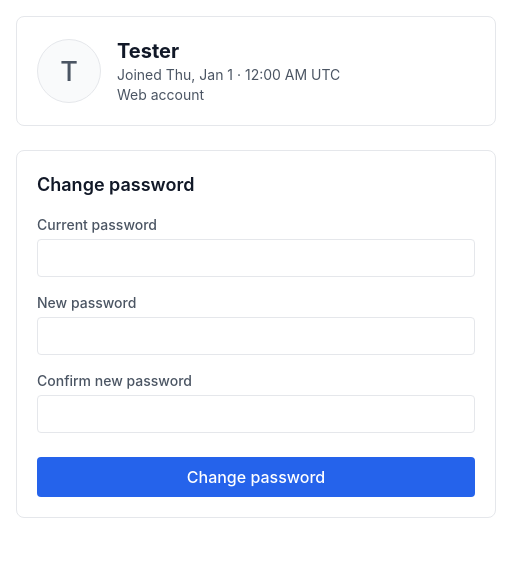
Test: ProfilePage password change › on wrong current password shows inline error and stays on Profile
Type "wrongpass123" into the 1st password field.
click(256, 258); type("wrongpass123")  # box [37,239,475,277]
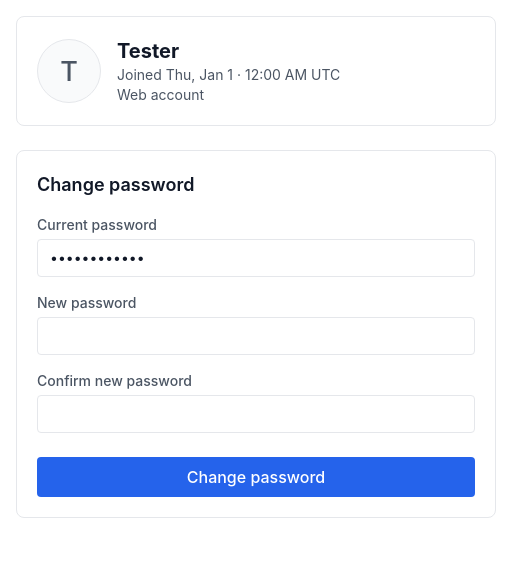
Type "newpass123" into the 2nd password field.
click(256, 336); type("newpass123")  # box [37,317,475,355]
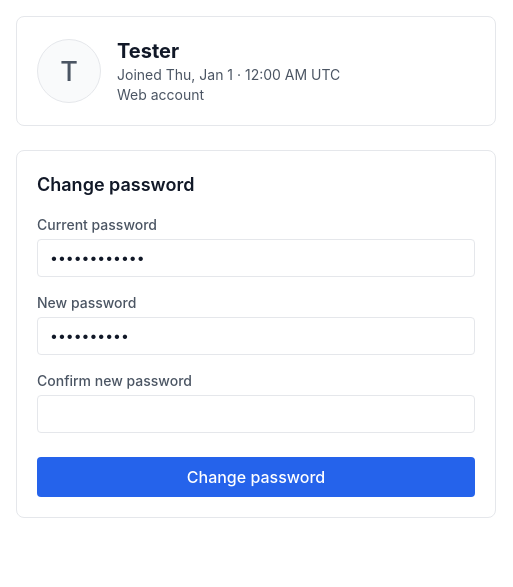
Type "newpass123" into the 3rd password field.
click(256, 414); type("newpass123")  # box [37,395,475,433]
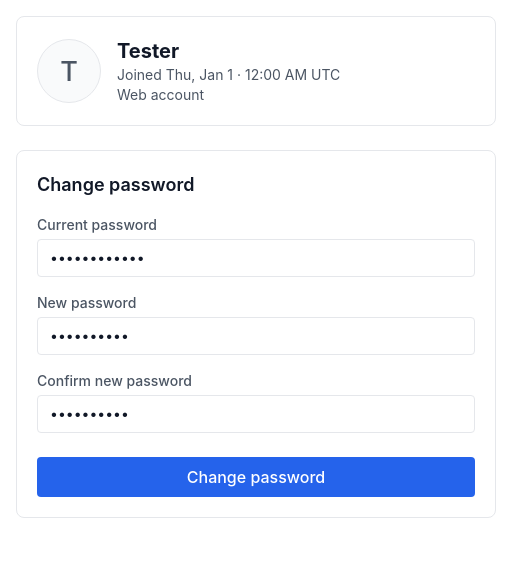
Click the button "Change password".
click(256, 477)  # box [37,457,475,497]
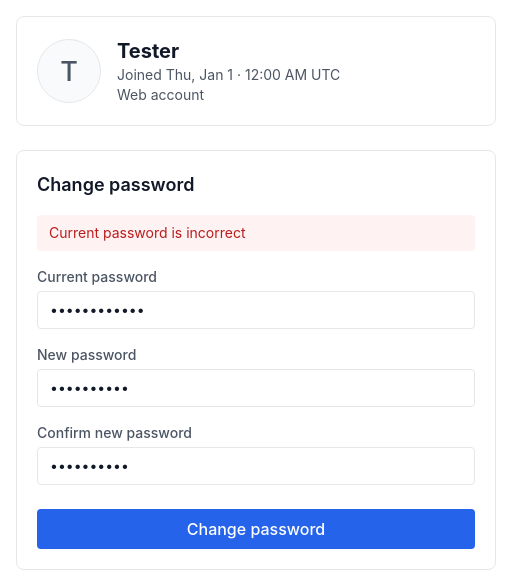
expect the text "Current password is incorrect" is shown: met, box [37,215,475,251]
